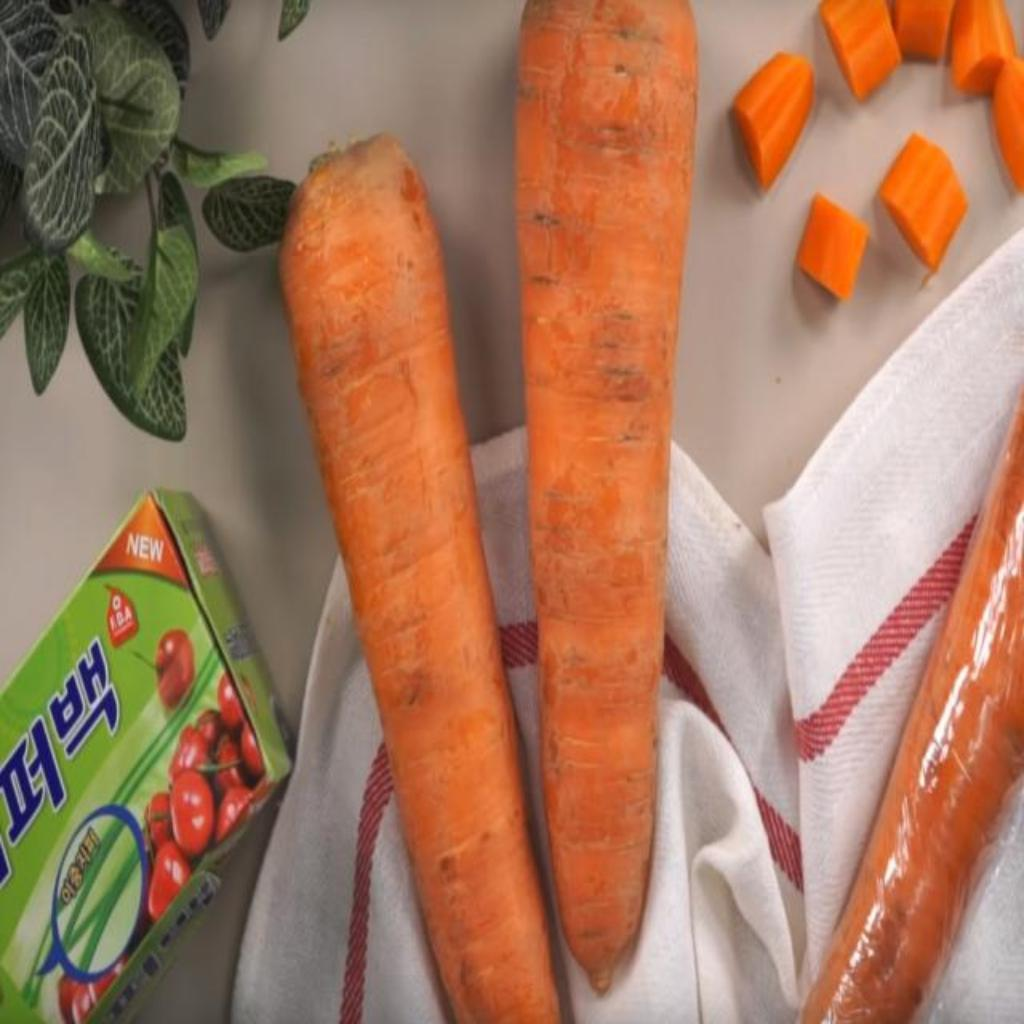carrot: (282, 136, 562, 1023), (516, 0, 696, 991), (802, 392, 1024, 1024)
